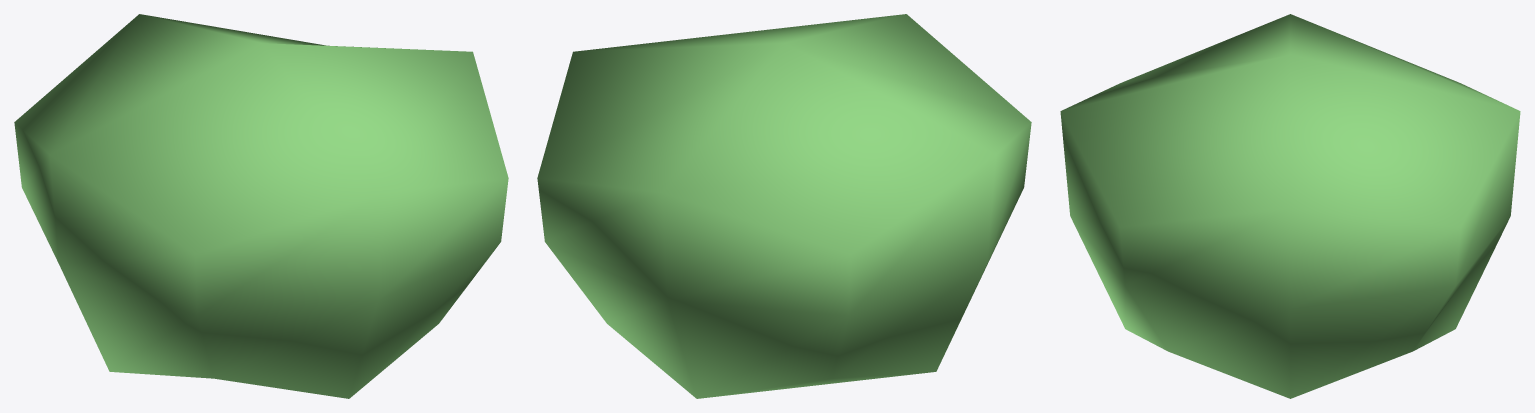
Rendered from Cabbage.fbx.
The picture shows the model from 3 angles, left to right: view 1: azimuth 30°, elevation 25°; view 2: azimuth 150°, elevation 25°; view 3: azimuth 270°, elevation 25°; orthographic projection. The views are drawn at different scales.
Visible parts, largest first — view 1: Cabbage; view 2: Cabbage; view 3: Cabbage.
Part boxes in pixels (x1,y1,x2,y2): Cabbage: (14,14,508,398); Cabbage: (537,14,1031,398); Cabbage: (1060,14,1520,398).
Size of the model in its own units: 50.97 by 38.18 by 50.97.
